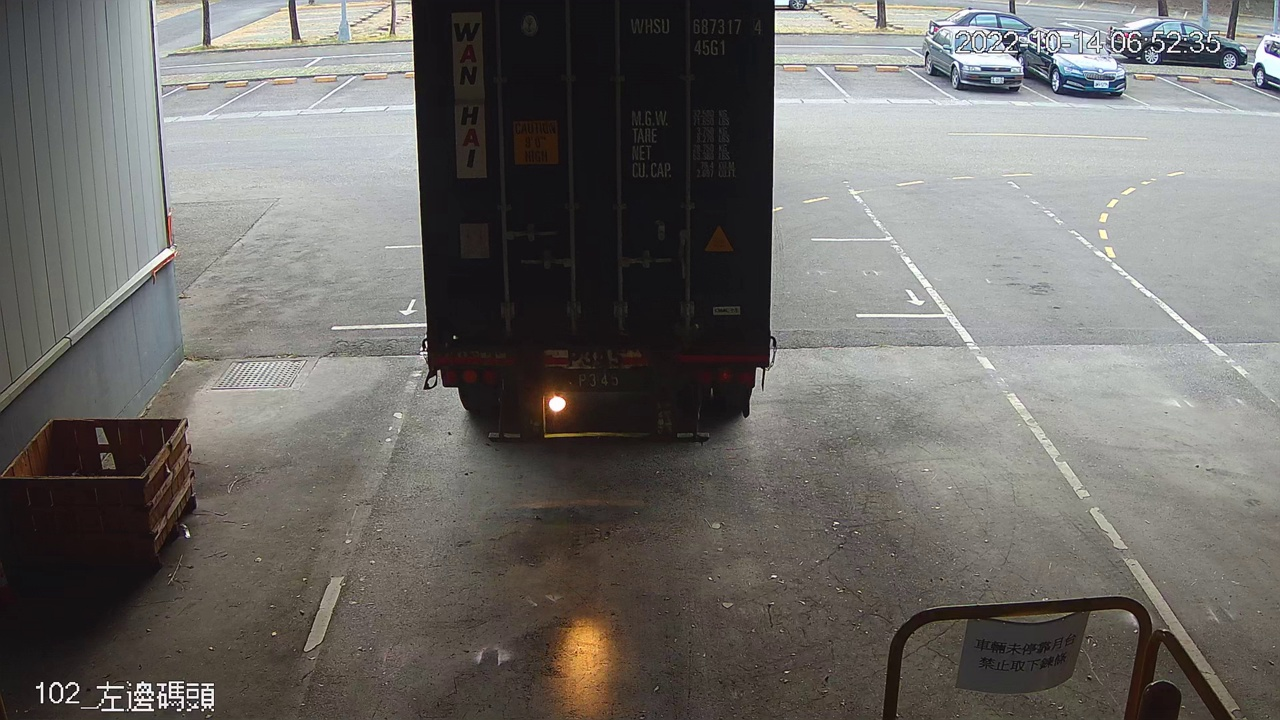container: (624, 9, 770, 62)
